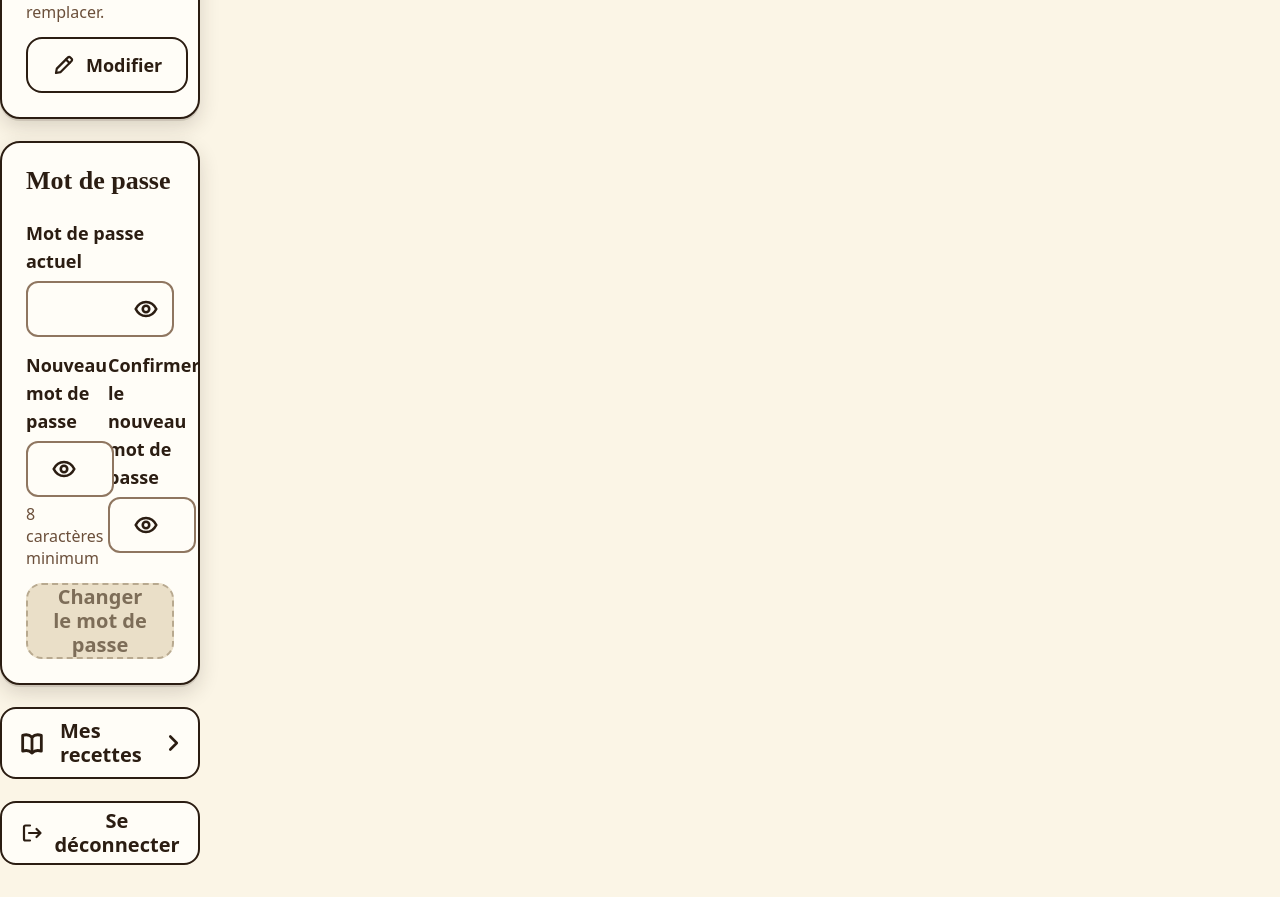
AccountScreen › « Se déconnecter » › asks first, with « Rester connecté » in focus and as the main answer
(page scrolled)
What coordinates should you click on to do the following:
click the button "Se déconnecter"
I would click on:
 (100, 833)
Its box is [0,801,200,865].
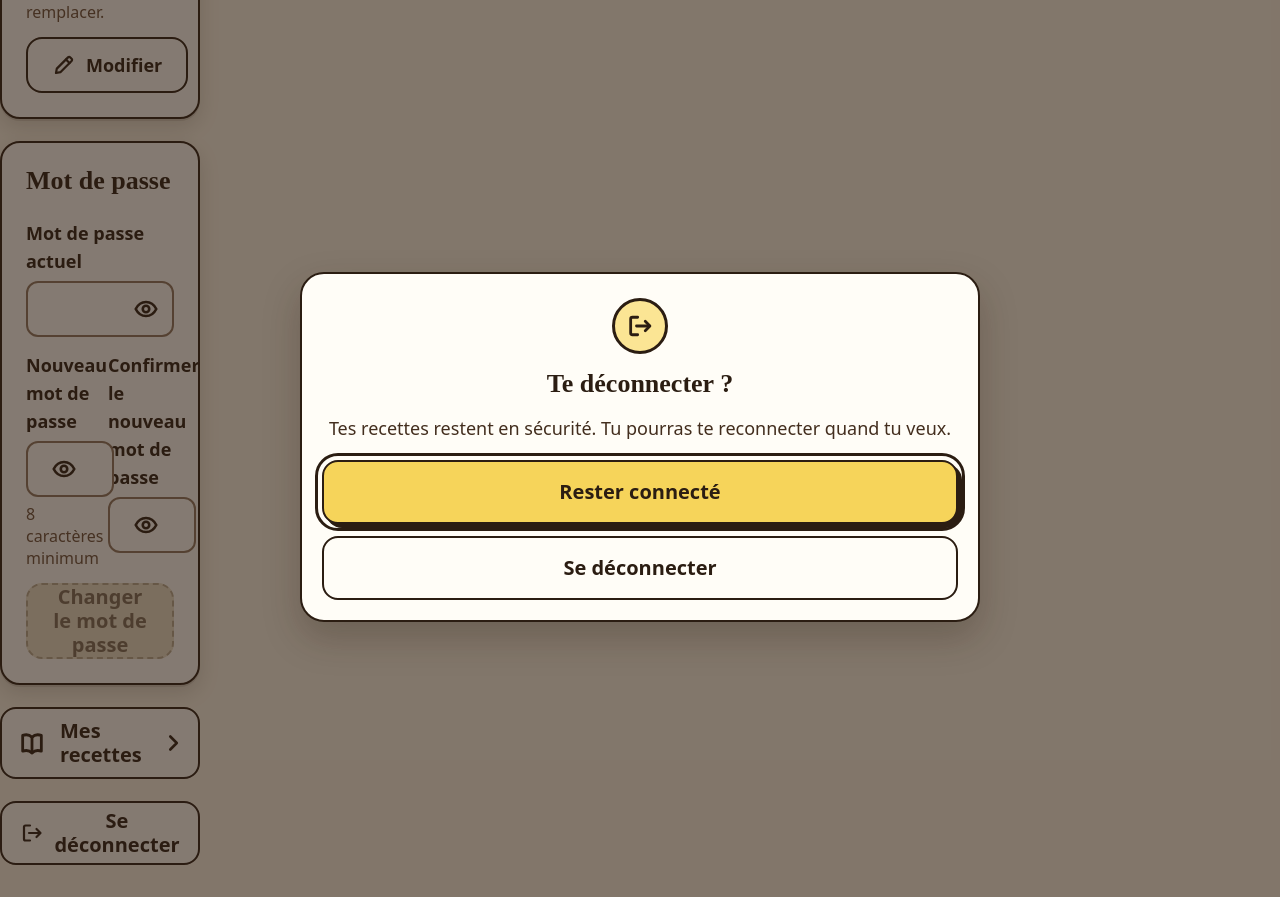
Expected: the text "Tes recettes restent en sécurité. Tu pourras te reconnecter quand tu veux." is shown, [322,414,958,442]
